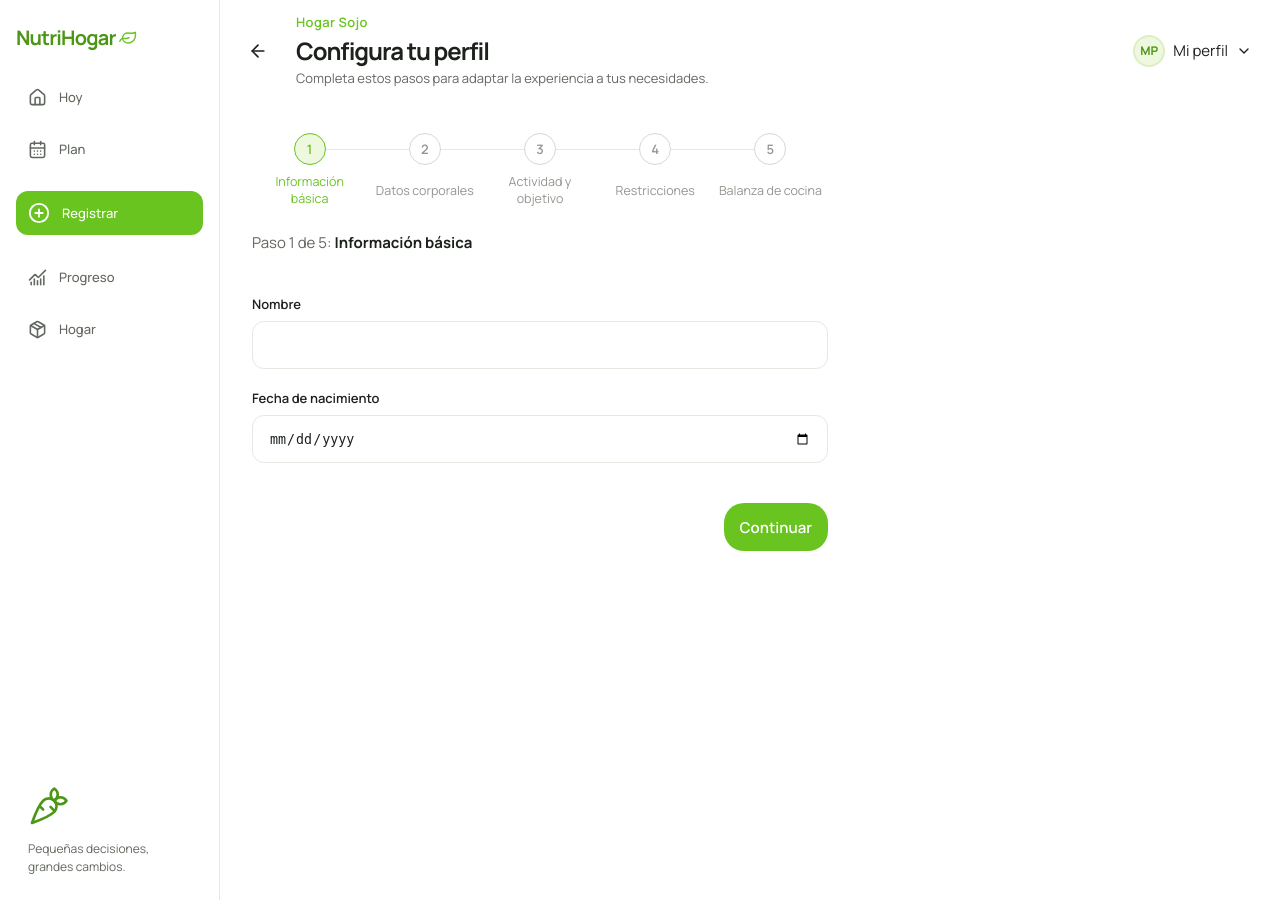
Test: PrivateLayout › logs out and returns to the public login page
The width and height of the screenshot is (1280, 900).
Click the heading named "Menú de Mi perfil" at (1193, 51), box [1133, 35, 1252, 67]
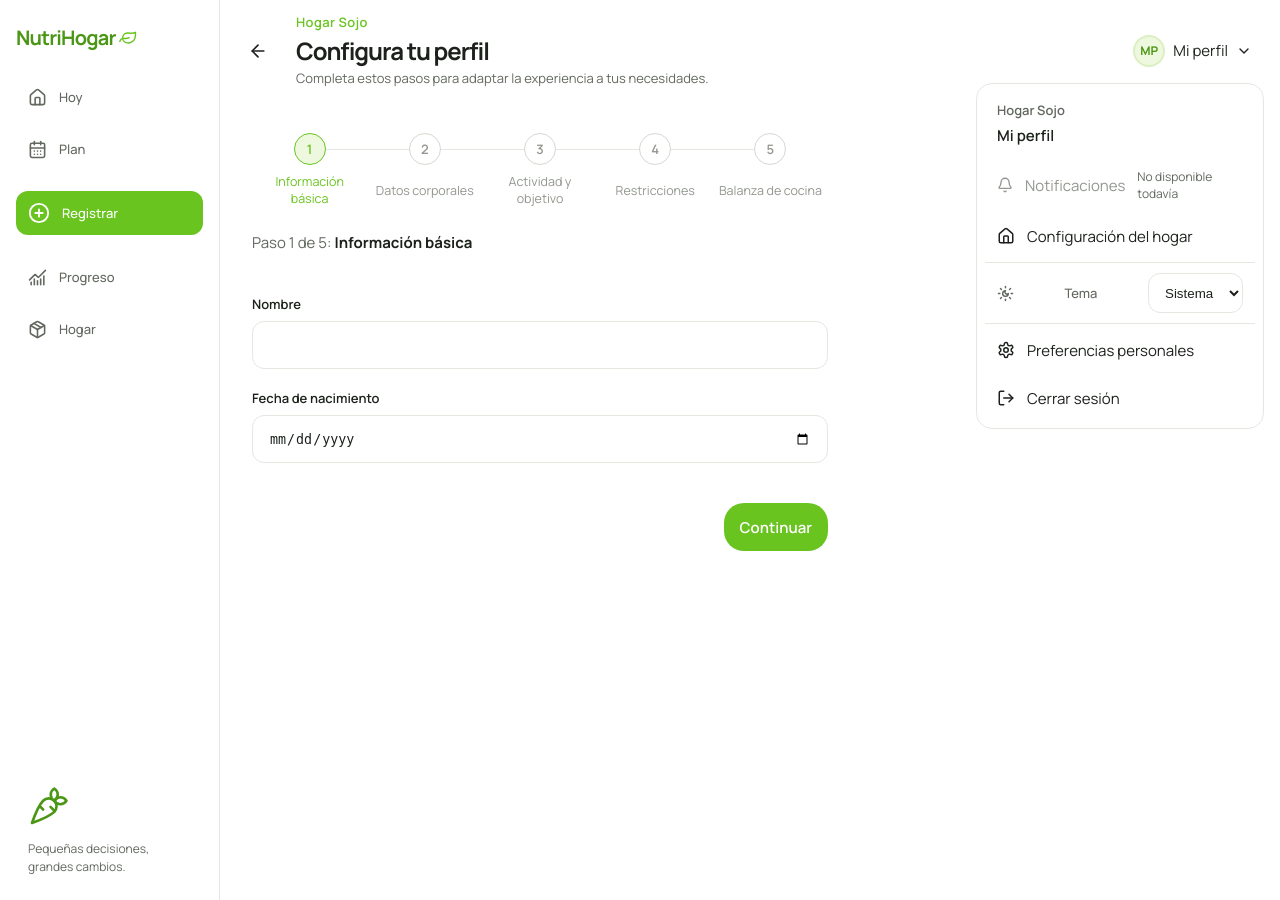
Click the button "Cerrar sesión" at (1120, 398), box [985, 376, 1255, 420]
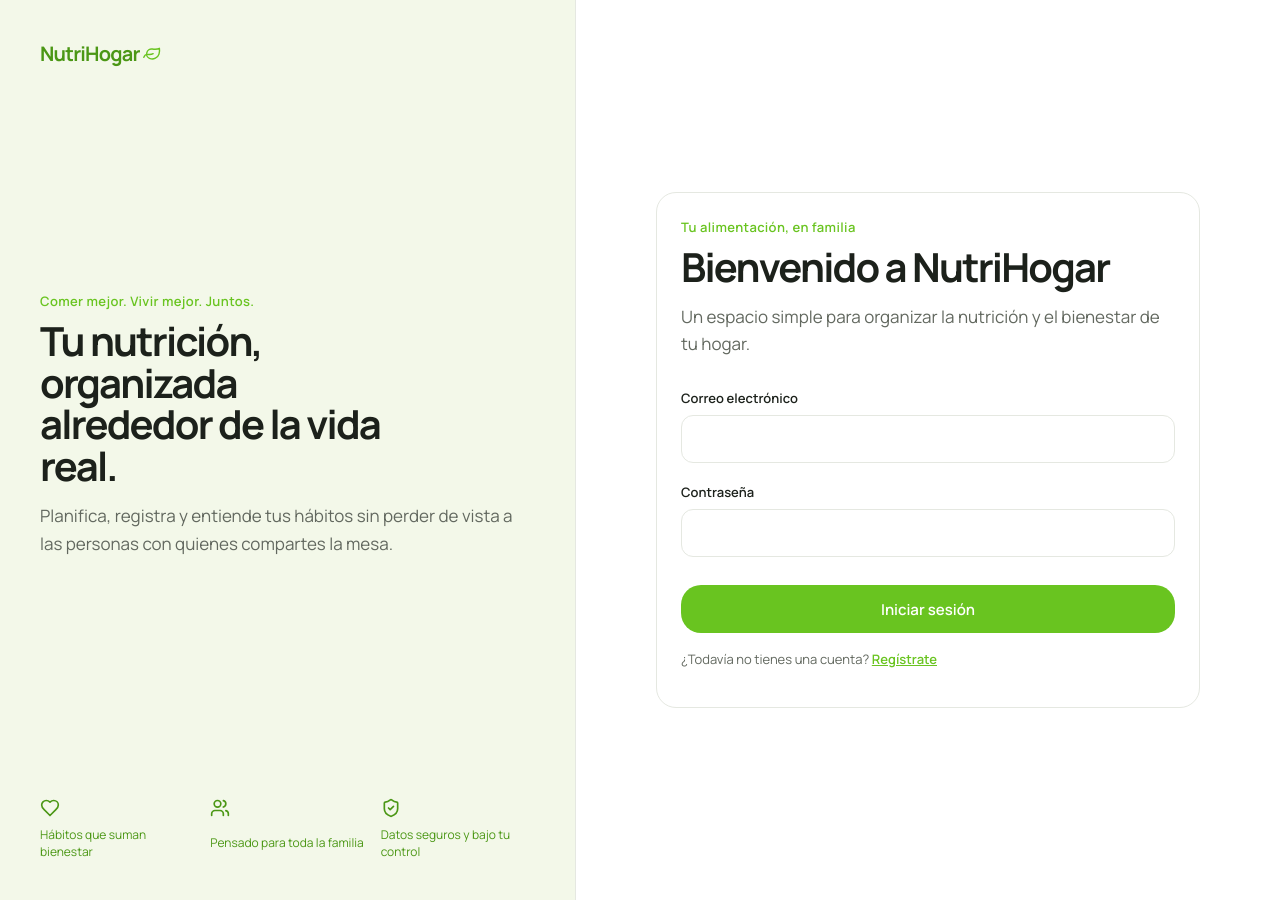
Expected: the heading "Bienvenido a NutriHogar" is shown, [681, 246, 1155, 287]
